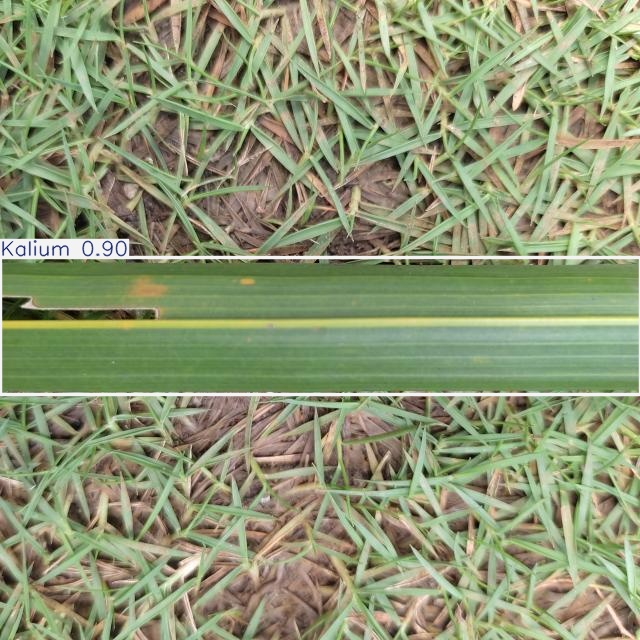Kalium: (0, 258, 640, 394)
